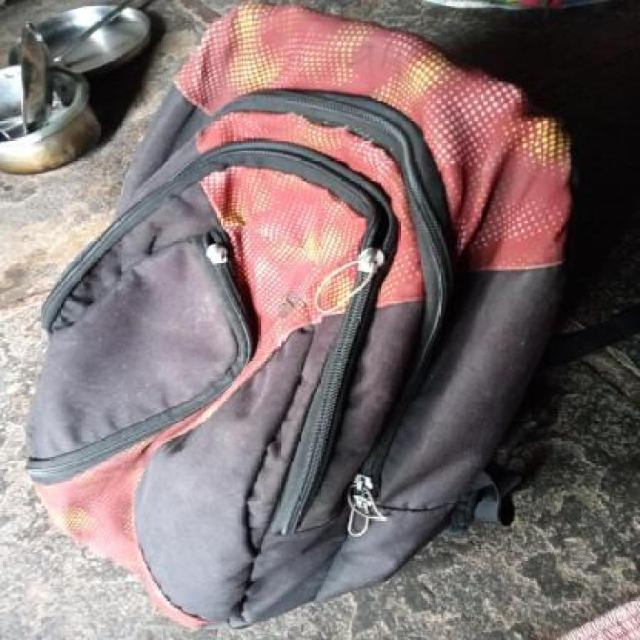backpack: (20, 0, 586, 632)
